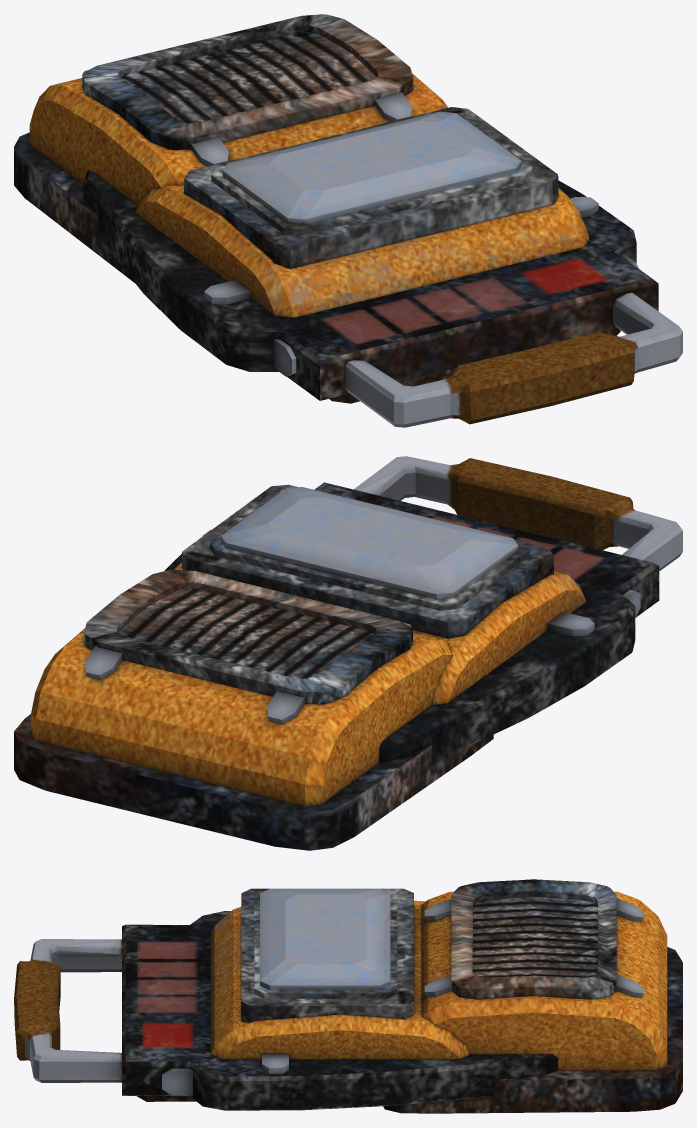
File: Radio.obj
3 renders of one model, top to bottom at view 1: azimuth 30°, elevation 25°; view 2: azimuth 150°, elevation 25°; view 3: azimuth 270°, elevation 25°, orthographic. The views are drawn at different scales.
Visible parts, largest first — view 1: LogNew; view 2: LogNew; view 3: LogNew.
Part boxes in pixels (bbox=[...]): LogNew: bbox=[14, 14, 682, 427]; LogNew: bbox=[14, 456, 682, 850]; LogNew: bbox=[14, 879, 682, 1113].
Bounding box in the file's own units: 1.68 × 0.532 × 2.82.
